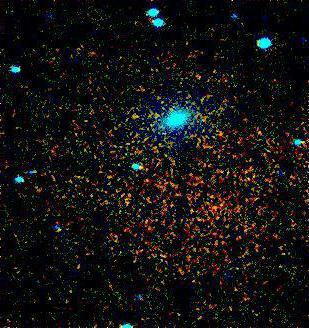star: (126, 102, 156, 132)
